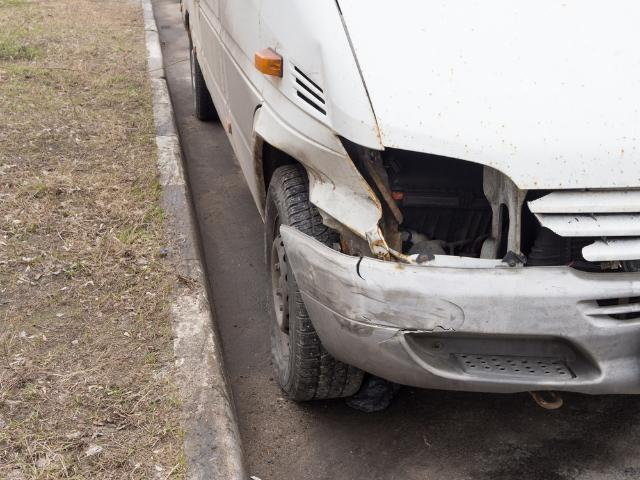crack: (363, 299, 465, 343), (357, 257, 365, 281)
dent: (299, 150, 381, 235)
no part: (341, 138, 573, 266), (405, 333, 599, 380)
scratch: (290, 239, 461, 335)
